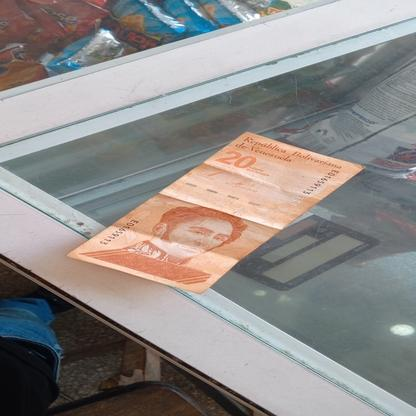twenty-front-vef: (64, 130, 366, 296)
